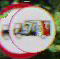Heavy Vehicles: (10, 7, 54, 58)
